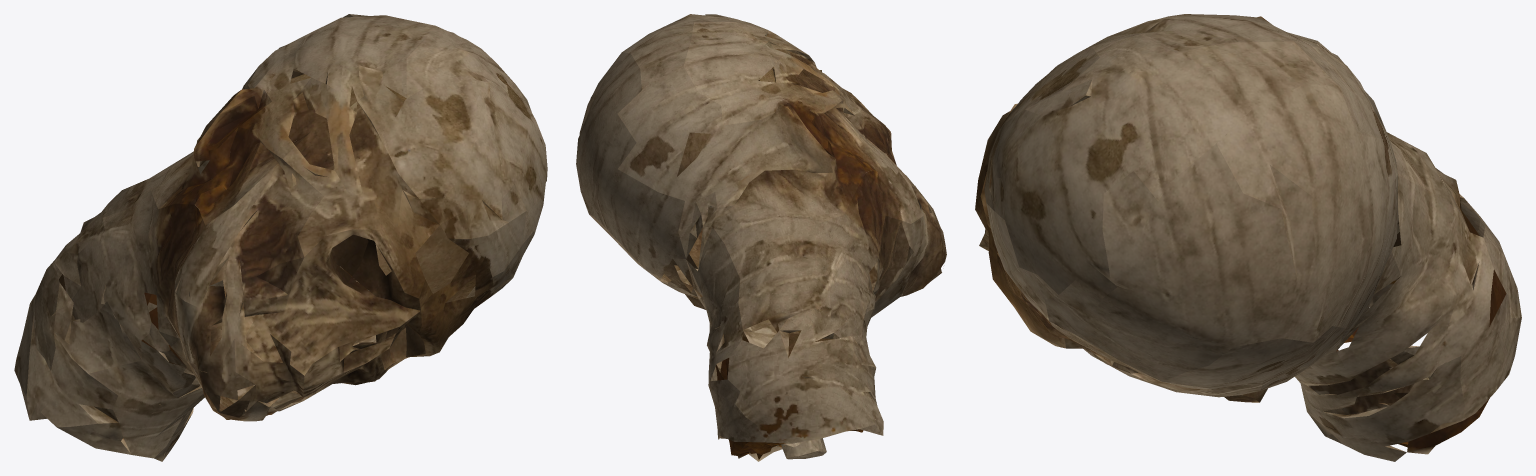
The model's file is mummy_head.glb.
3 views of the same model, side by side, from view 1: azimuth 30°, elevation 25°; view 2: azimuth 150°, elevation 25°; view 3: azimuth 270°, elevation 25° (orthographic). The views are drawn at different scales.
Parts seen in each view (by area): view 1: geometry_0; view 2: geometry_0; view 3: geometry_0.
Part boxes in pixels (box(x1,y1,x2,y2)): geometry_0: box(14, 14, 547, 461); geometry_0: box(576, 14, 946, 461); geometry_0: box(975, 14, 1521, 461).
Size of the model in its own units: 0.32 by 0.3119 by 0.3041.
1 material, 1 textured.
